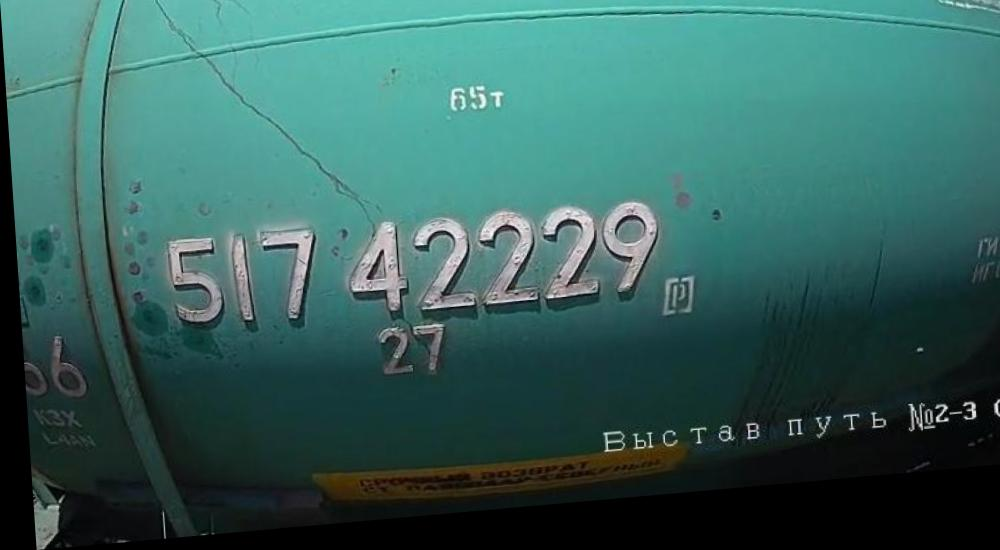Wagon-number: (153, 197, 665, 347)
